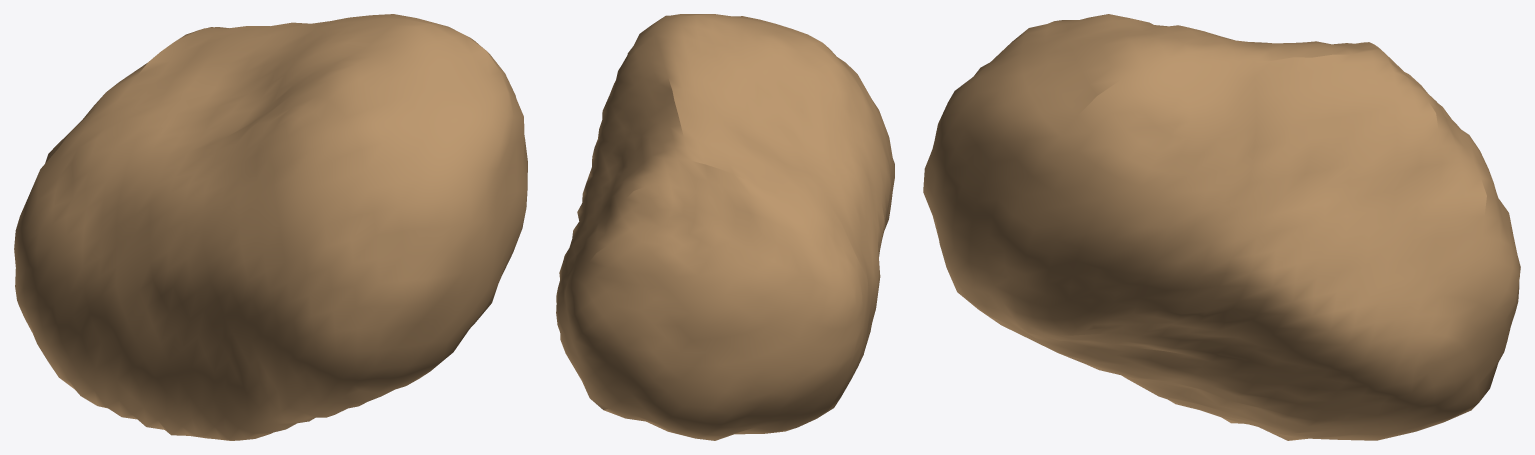
File: Potato.fbx
3 views of the same model, side by side, from view 1: azimuth 30°, elevation 25°; view 2: azimuth 150°, elevation 25°; view 3: azimuth 270°, elevation 25° (orthographic). The views are drawn at different scales.
Parts seen in each view (by area): view 1: rock; view 2: rock; view 3: rock.
Part boxes in pixels (left/top/right/bottom): rock: left=14, top=14, right=527, bottom=440; rock: left=556, top=14, right=894, bottom=440; rock: left=923, top=14, right=1520, bottom=440.
Size of the model in its own units: 10.98 by 11.05 by 13.52.
